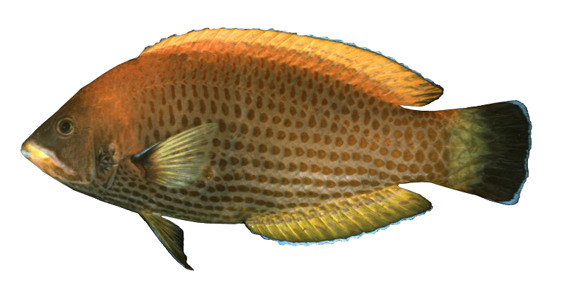fish: (19, 27, 532, 272)
